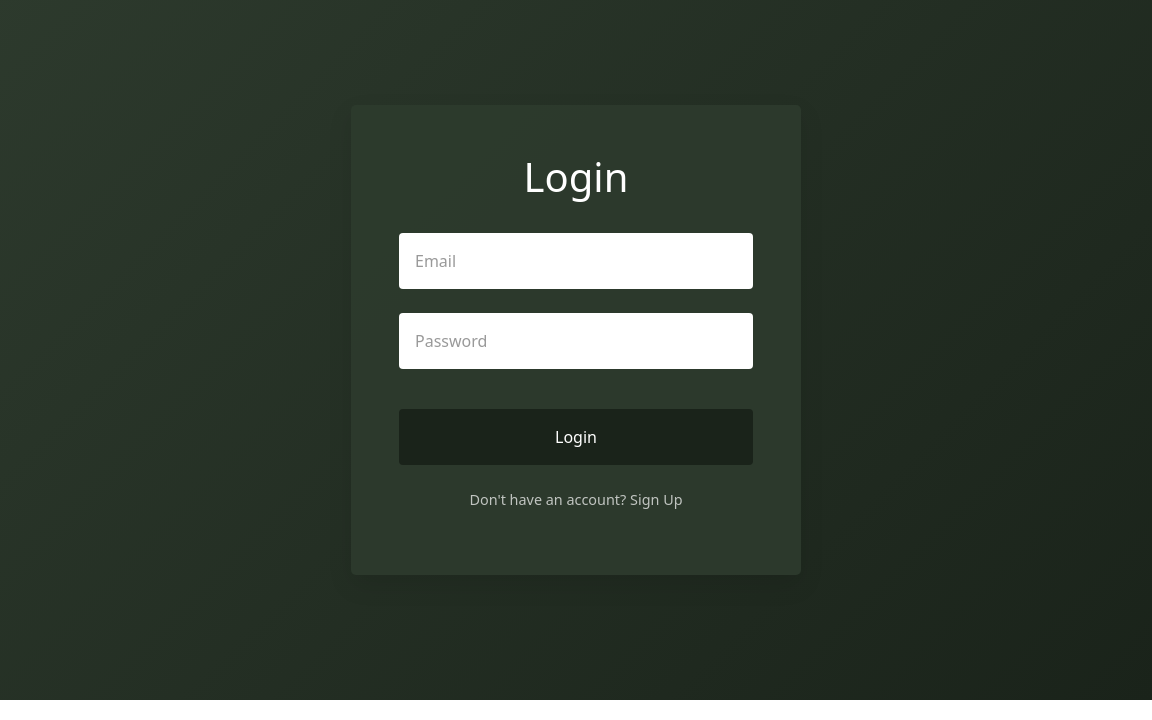
Test: SignUp component › Password includes spaces
Step 1. Click the text "Don't have an account? Sign Up" → click(576, 500), box [470,489,682,511]
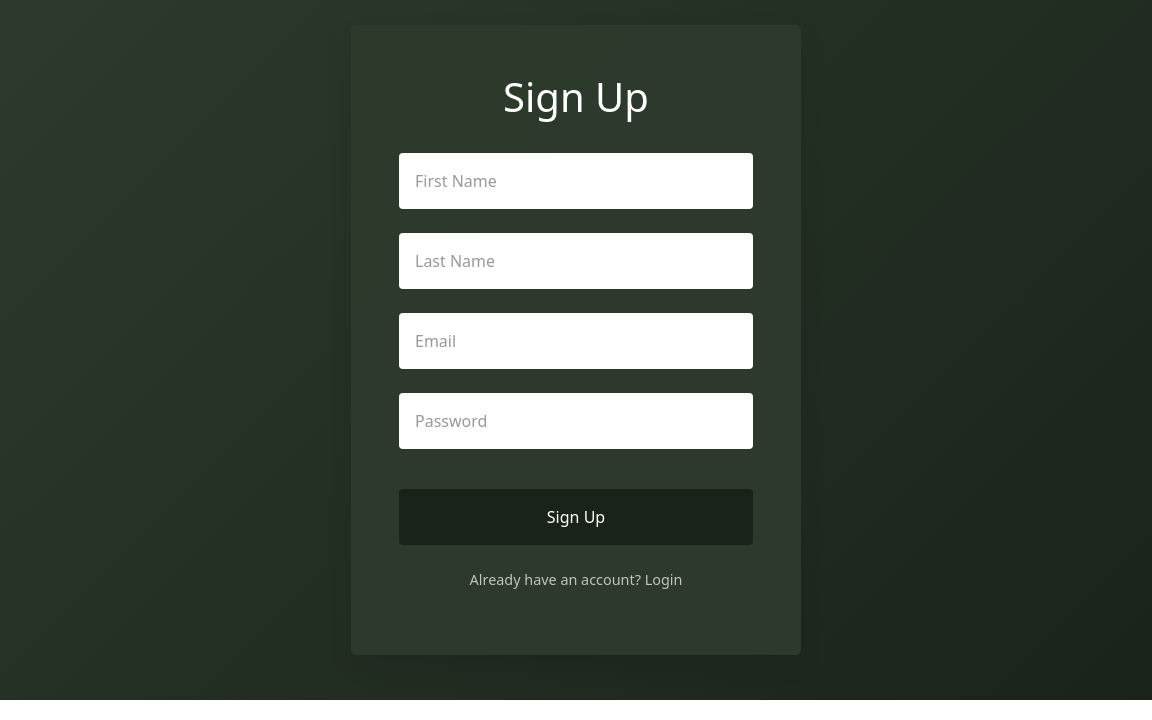
Step 2. Type "Peter" into the field with placeholder "First Name" → (576, 181), box [399,153,753,209]
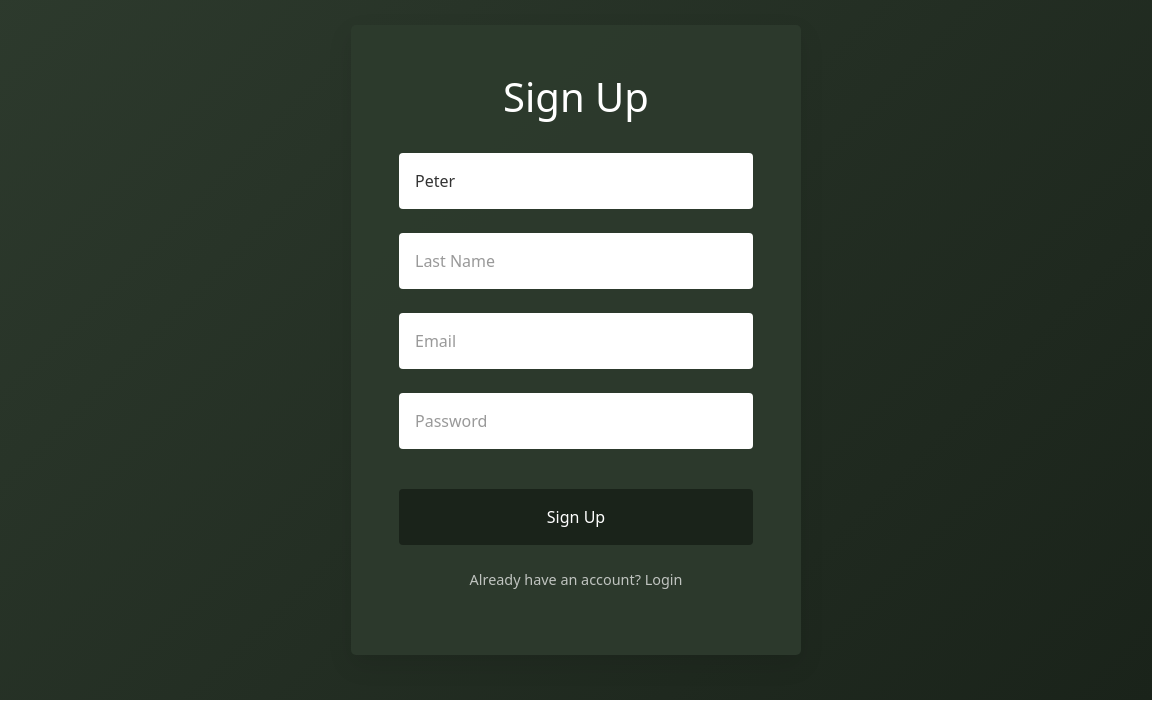
Step 3. Type "Parker" into the field with placeholder "Last Name" → (576, 261), box [399,233,753,289]
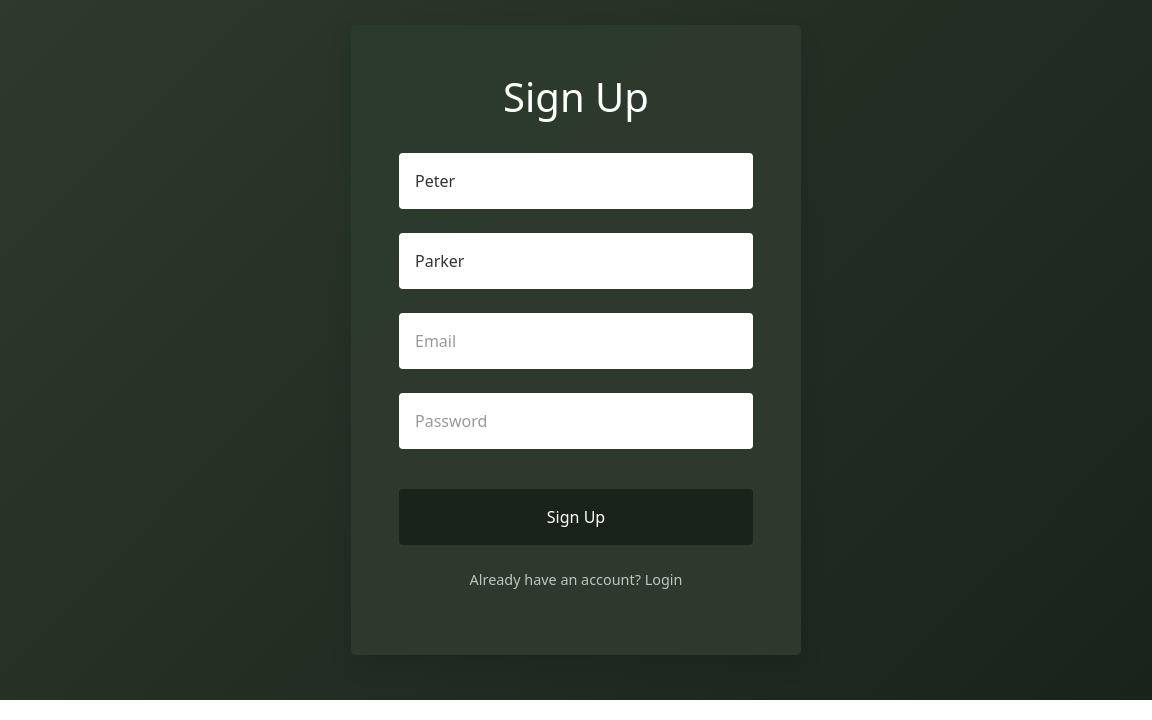
Step 4. Type "H123456@gmail.com" into the field with placeholder "Email" → (576, 341), box [399,313,753,369]
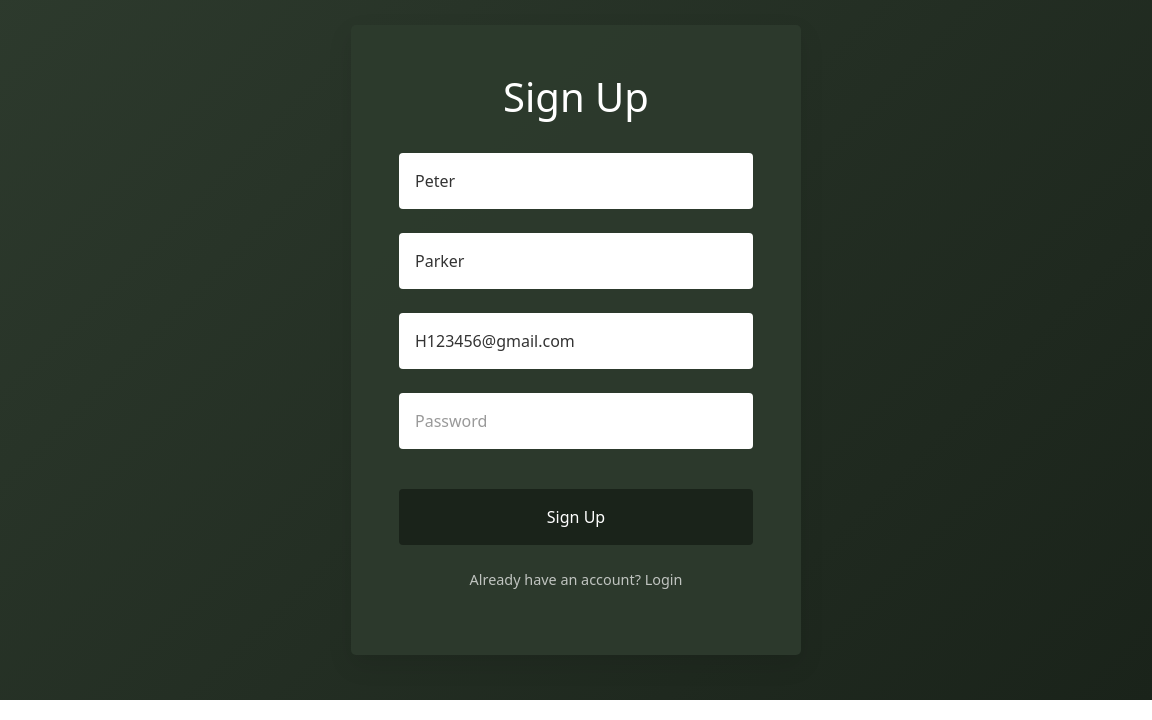
Step 5. Type "12   455555" into the password field with placeholder "Password" → (576, 421), box [399,393,753,449]
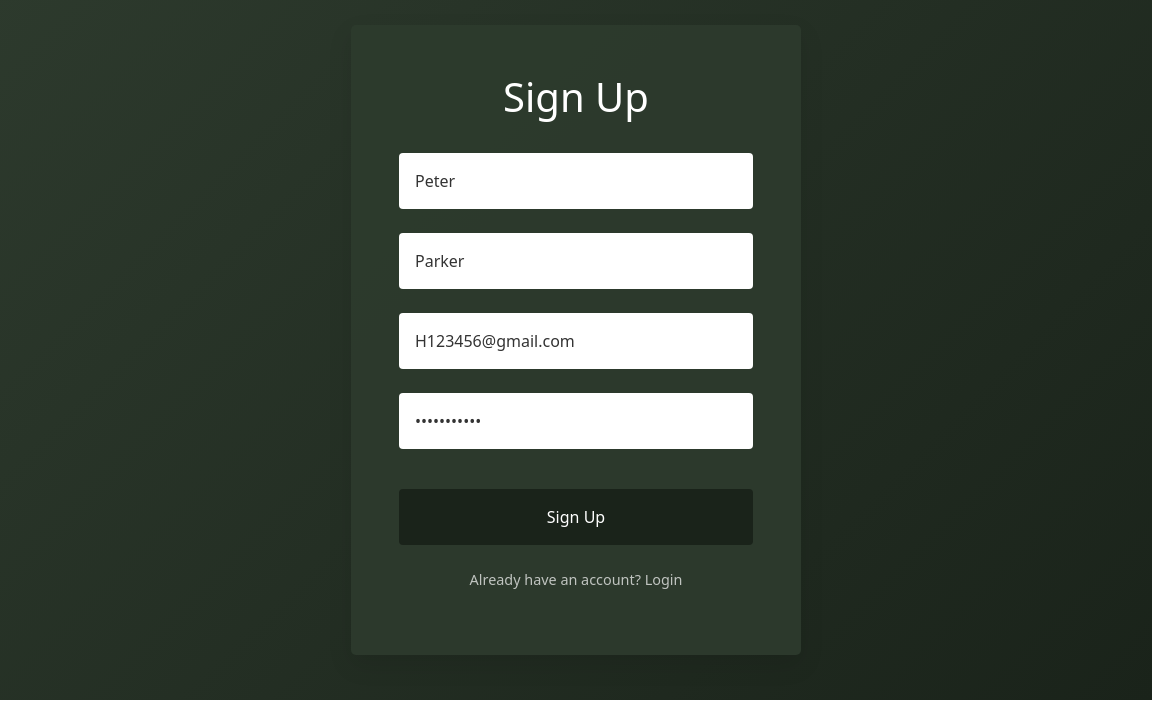
Step 6. Click the button "Sign Up" → click(576, 517), box [399,489,753,545]
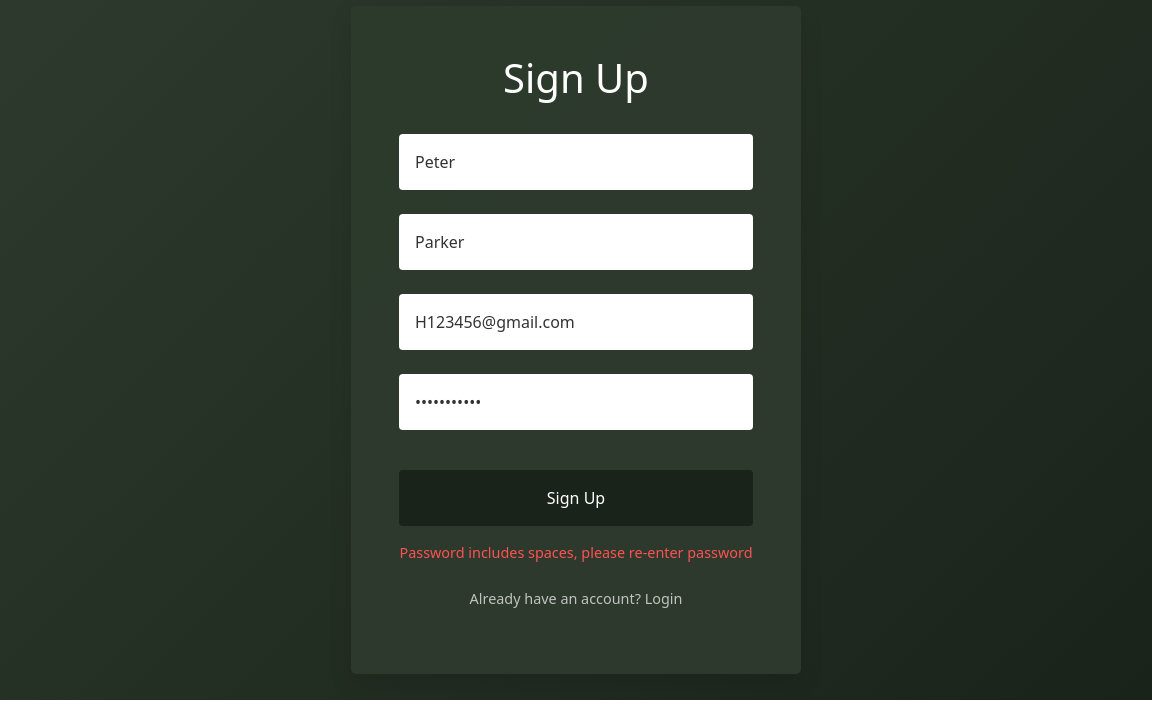
expect the text "Password includes spaces, please re-enter password" is shown: met, box [399,542,753,564]
